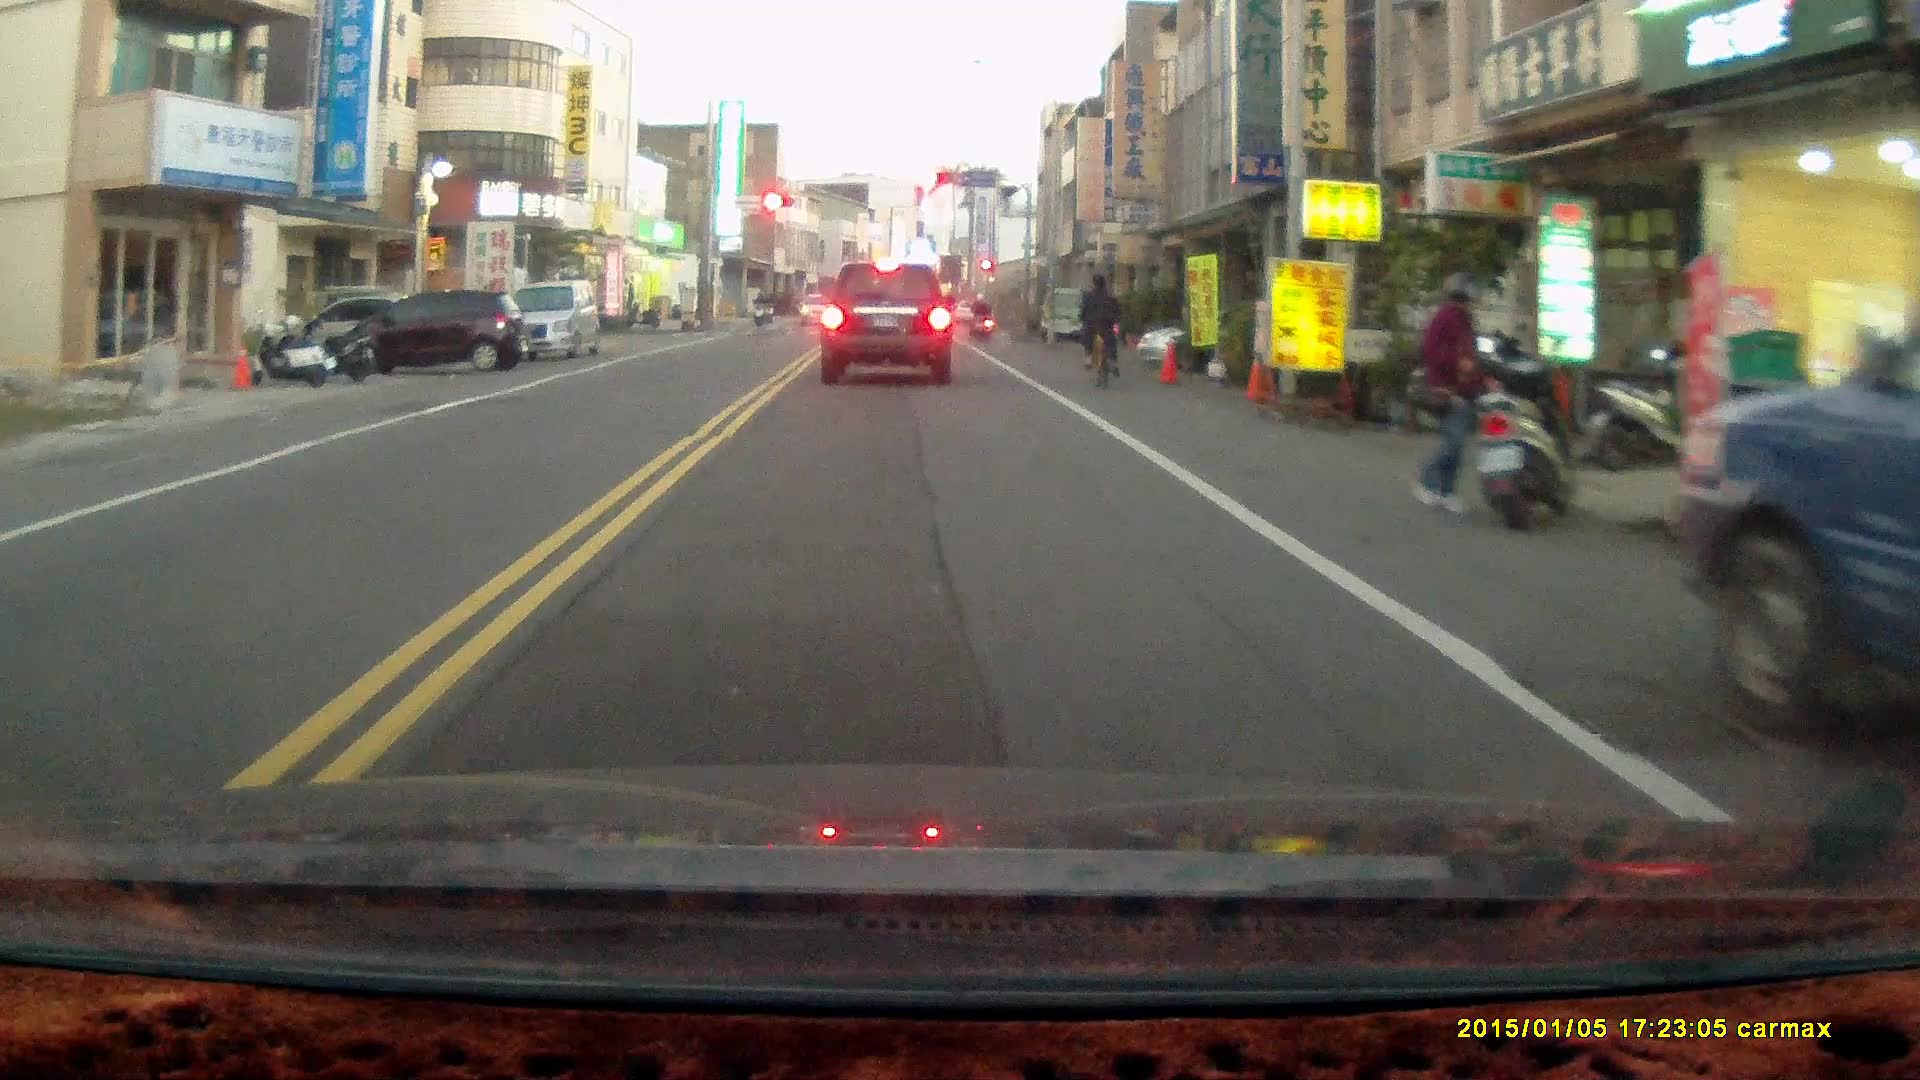pedestrian: (1409, 271, 1498, 511)
rider: (1078, 271, 1125, 390), (968, 290, 992, 342), (750, 287, 771, 326)
vehicle: (1674, 278, 1920, 739), (342, 286, 529, 381), (820, 262, 957, 387), (485, 277, 607, 363)
